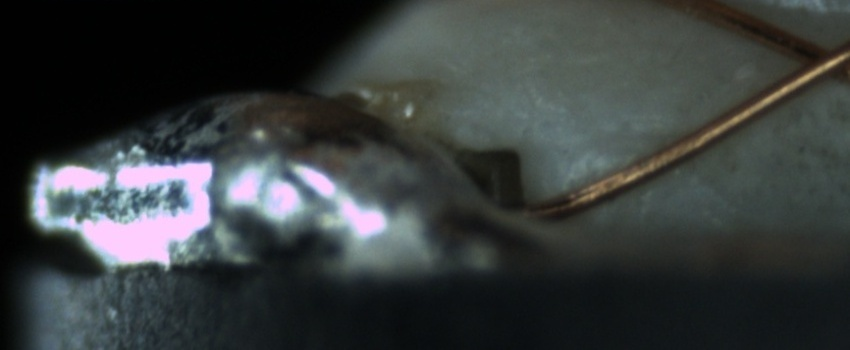CL: (771, 24, 849, 95)
DL: (572, 109, 695, 169)
